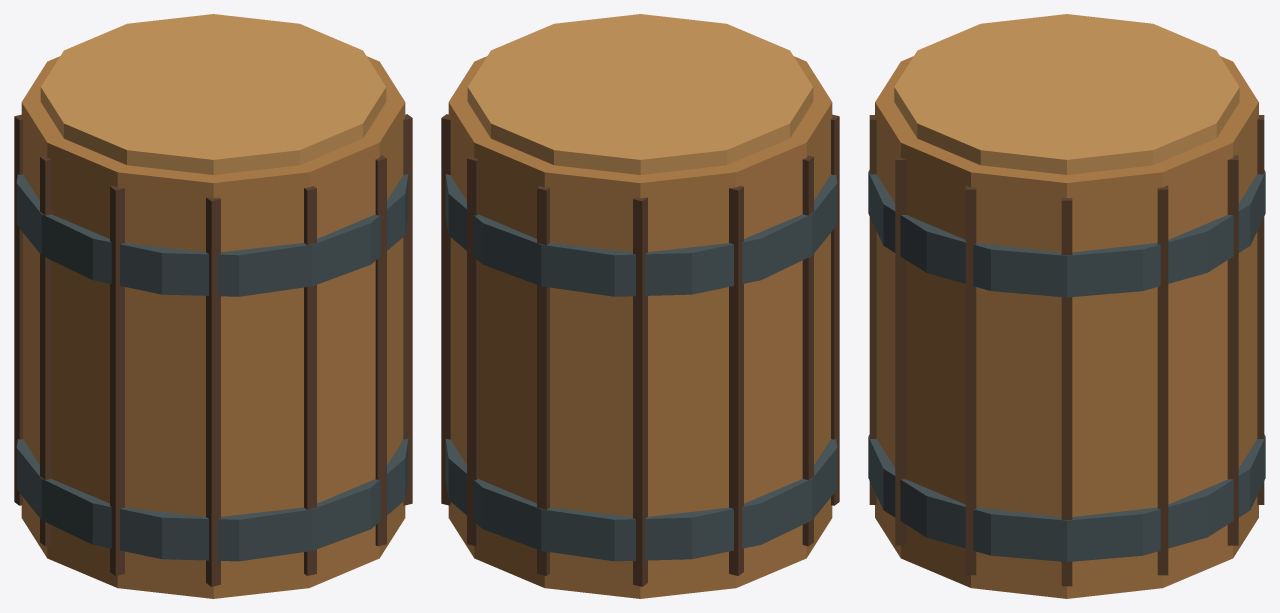
File: dock_kit__dock_barrel.glb
3 renders of one model, left to right at view 1: azimuth 30°, elevation 25°; view 2: azimuth 150°, elevation 25°; view 3: azimuth 270°, elevation 25°, orthographic.
Parts seen in each view (by area): view 1: dock_barrel__wood2.001, dock_barrel__wood3.001, dock_barrel__metal.001, dock_barrel__wood_dark.001; view 2: dock_barrel__wood2.001, dock_barrel__wood3.001, dock_barrel__metal.001, dock_barrel__wood_dark.001; view 3: dock_barrel__wood2.001, dock_barrel__wood3.001, dock_barrel__metal.001, dock_barrel__wood_dark.001.
Part boxes in pixels (box(x1,y1,x2,y2)): dock_barrel__wood2.001: box(21, 56, 405, 598); dock_barrel__wood3.001: box(40, 14, 386, 174); dock_barrel__metal.001: box(16, 174, 408, 561); dock_barrel__wood_dark.001: box(14, 114, 412, 586); dock_barrel__wood2.001: box(448, 56, 832, 598); dock_barrel__wood3.001: box(467, 14, 813, 174); dock_barrel__metal.001: box(445, 174, 837, 561); dock_barrel__wood_dark.001: box(441, 114, 839, 586); dock_barrel__wood2.001: box(875, 56, 1258, 598); dock_barrel__wood3.001: box(894, 14, 1239, 174); dock_barrel__metal.001: box(868, 170, 1265, 561); dock_barrel__wood_dark.001: box(869, 115, 1264, 586).
Bounding box in the file's own units: 0.5475 × 0.6555 × 0.5475.
